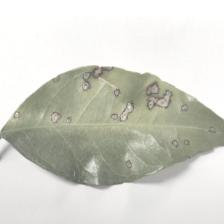canker: (7, 47, 217, 178)
